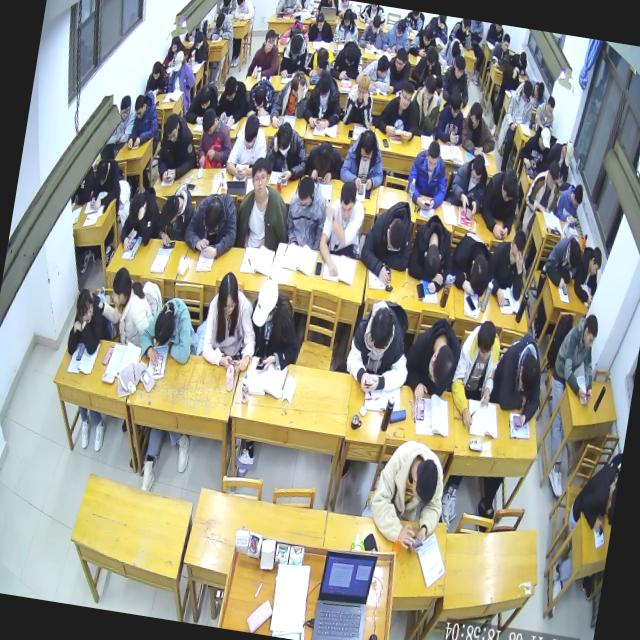bow: (485, 326, 550, 432), (401, 312, 466, 411), (95, 264, 161, 352), (356, 195, 419, 286), (134, 292, 203, 374), (180, 185, 242, 264), (404, 210, 458, 296), (64, 286, 118, 359), (446, 229, 498, 301), (153, 176, 200, 249), (262, 119, 314, 184), (542, 228, 584, 292), (457, 100, 501, 159), (570, 242, 605, 308), (304, 138, 346, 188), (247, 26, 283, 82), (329, 37, 368, 85), (356, 50, 396, 95), (243, 75, 278, 123), (303, 44, 338, 84), (277, 16, 312, 48), (436, 36, 466, 71), (206, 8, 236, 42), (186, 26, 212, 64), (499, 62, 522, 94), (528, 76, 549, 106), (510, 48, 530, 76), (213, 0, 237, 23)
down: (408, 454, 444, 508), (250, 275, 282, 330), (424, 342, 458, 392), (366, 306, 396, 359), (150, 302, 180, 350), (516, 349, 544, 398), (215, 269, 242, 317), (474, 318, 499, 366), (336, 179, 362, 225), (384, 216, 409, 258), (201, 195, 226, 237), (294, 172, 318, 210), (506, 228, 528, 269), (240, 113, 262, 153), (274, 120, 296, 158), (312, 140, 334, 178), (498, 166, 520, 203), (581, 314, 602, 352), (356, 126, 377, 163), (161, 194, 182, 229), (423, 138, 443, 174), (128, 188, 148, 224), (162, 112, 182, 146), (564, 238, 584, 272), (586, 245, 604, 280), (200, 105, 220, 136), (468, 152, 486, 186), (354, 72, 372, 105), (316, 72, 334, 105), (544, 157, 562, 190), (131, 93, 149, 123), (391, 45, 409, 75), (447, 90, 465, 120), (341, 39, 360, 67), (222, 75, 240, 104), (94, 156, 111, 186), (252, 82, 270, 110), (197, 82, 215, 110), (118, 92, 134, 122), (570, 181, 586, 210), (537, 125, 553, 154), (423, 44, 439, 72), (452, 54, 468, 82), (560, 138, 576, 166), (314, 44, 331, 70), (172, 46, 186, 76), (421, 20, 436, 47), (520, 76, 534, 103), (532, 79, 546, 103), (544, 95, 556, 121), (394, 18, 408, 39), (192, 28, 205, 50), (341, 6, 354, 28), (150, 59, 162, 82), (370, 13, 382, 36), (500, 32, 512, 55), (315, 10, 327, 31), (214, 12, 226, 32), (450, 40, 462, 60), (170, 33, 181, 54), (518, 48, 528, 66)
lookup: (248, 154, 272, 200), (397, 78, 416, 110), (262, 26, 278, 54)
sit: (363, 432, 452, 554), (342, 295, 419, 399), (198, 268, 266, 375), (444, 314, 505, 432), (242, 273, 308, 377), (232, 152, 296, 254), (314, 177, 372, 283), (549, 307, 606, 405), (484, 222, 534, 312), (566, 458, 620, 536), (282, 170, 332, 252), (152, 108, 202, 186), (475, 162, 523, 242), (404, 136, 453, 214), (223, 111, 273, 186), (338, 125, 390, 197), (116, 182, 164, 258), (375, 75, 425, 144), (447, 150, 492, 220), (302, 68, 348, 134), (268, 66, 312, 134), (194, 105, 237, 172), (124, 90, 165, 155), (524, 154, 565, 218), (407, 72, 445, 140), (88, 154, 125, 216), (439, 49, 476, 109), (341, 71, 378, 131), (214, 74, 251, 134), (502, 74, 538, 134), (434, 88, 469, 147), (184, 77, 222, 129), (278, 28, 312, 84), (516, 122, 552, 173), (409, 40, 445, 90), (166, 49, 200, 99), (384, 44, 416, 96), (110, 91, 139, 146), (553, 178, 586, 225), (545, 136, 576, 182), (381, 15, 414, 58), (408, 20, 440, 61), (332, 6, 362, 47), (143, 58, 172, 100), (306, 8, 338, 46), (532, 93, 559, 136), (358, 12, 387, 52), (489, 30, 514, 72), (163, 31, 186, 68), (232, 0, 257, 21)
